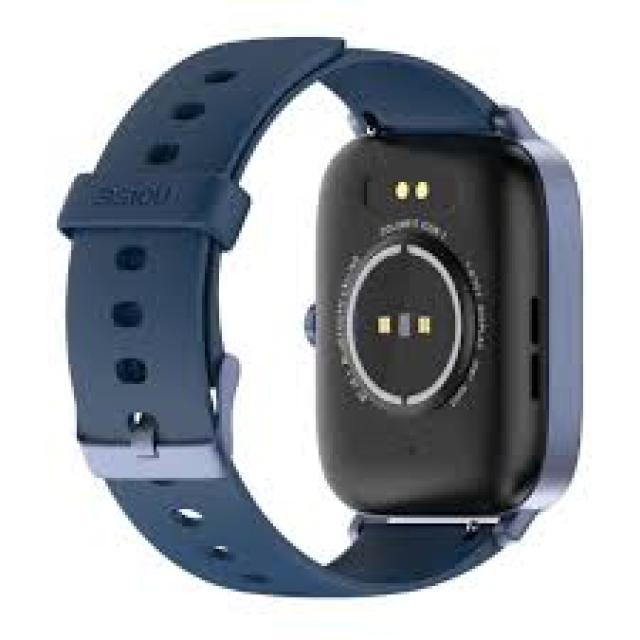objects: (53, 39, 580, 597)
